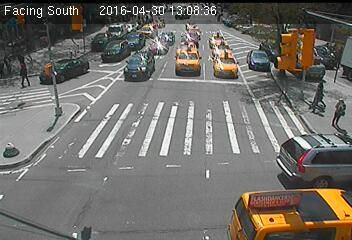neg: (295, 135, 320, 168), (230, 177, 254, 209), (271, 180, 293, 210), (1, 94, 21, 120), (211, 46, 230, 71), (67, 55, 85, 80), (96, 119, 112, 141), (105, 39, 120, 58)
pos: (325, 96, 350, 130), (308, 80, 333, 112), (7, 46, 30, 77), (12, 59, 32, 86)
